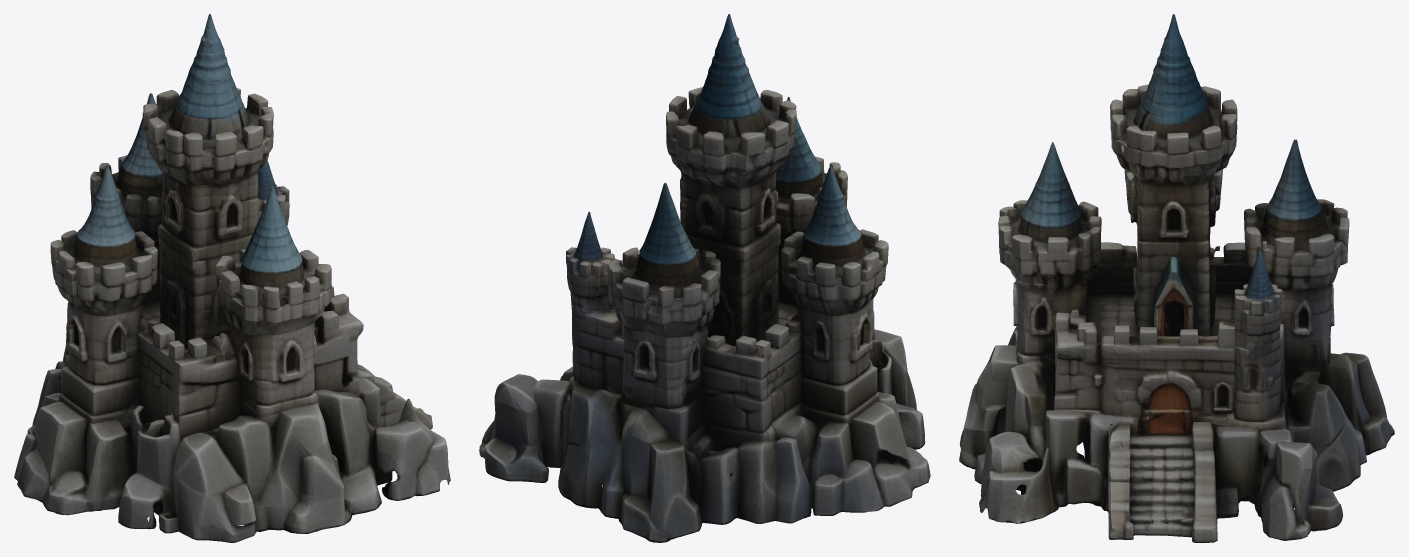
The model's file is castle.glb.
3 renders of one model, left to right at view 1: azimuth 30°, elevation 25°; view 2: azimuth 150°, elevation 25°; view 3: azimuth 270°, elevation 25°, orthographic.
Parts seen in each view (by area): view 1: world; view 2: world; view 3: world.
Part boxes in pixels (x1,y1,x2,y2): world: (14, 14, 450, 542); world: (479, 14, 930, 542); world: (959, 14, 1394, 542).
Size of the model in its own units: 0.9029 by 1 by 0.9077.
1 material, 1 textured.
